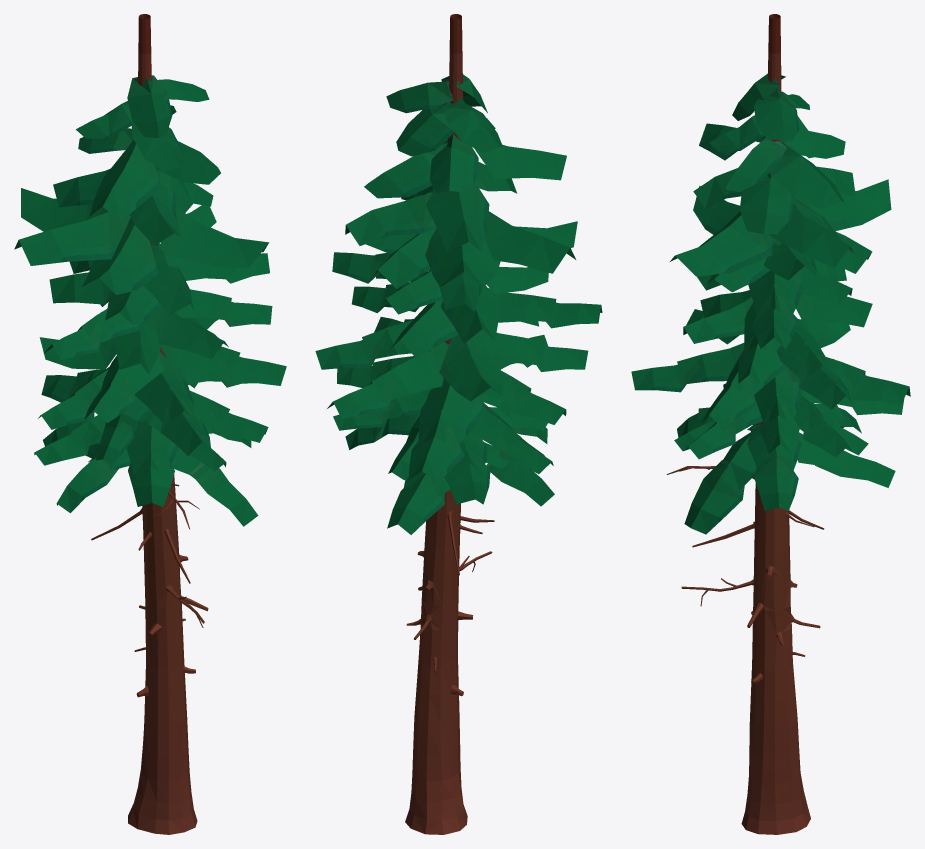
The model's file is Dynamic_Tree_05.fbx.
The picture shows the model from 3 angles, left to right: view 1: azimuth 30°, elevation 25°; view 2: azimuth 150°, elevation 25°; view 3: azimuth 270°, elevation 25°; orthographic projection.
Visible parts, largest first — view 1: SM_Tree_05_Dynamic.mo; view 2: SM_Tree_05_Dynamic.mo; view 3: SM_Tree_05_Dynamic.mo.
Boxes of the visible parts, box(x1,y1,x2,y2) form: SM_Tree_05_Dynamic.mo: box(14, 14, 286, 834); SM_Tree_05_Dynamic.mo: box(315, 14, 602, 834); SM_Tree_05_Dynamic.mo: box(631, 14, 910, 834).
Bounding box in the file's own units: 573 × 1810 × 575.
